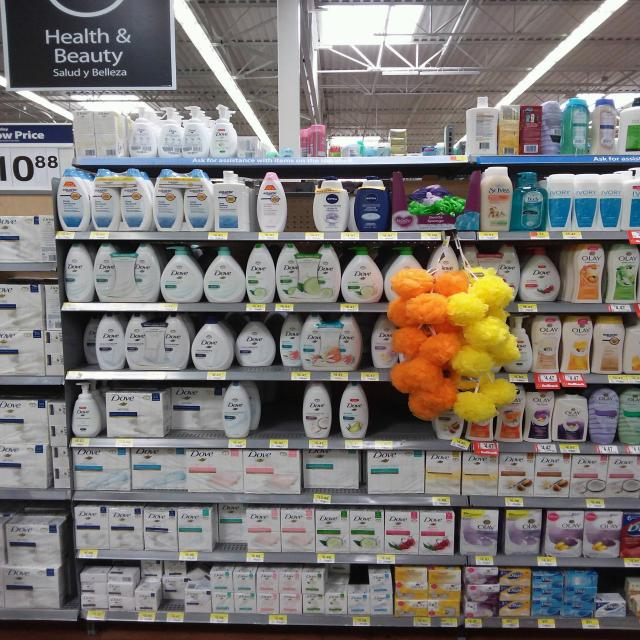unorganised: (231, 311, 278, 372), (301, 449, 367, 491), (170, 387, 223, 437), (462, 92, 499, 156), (564, 92, 590, 155), (590, 94, 616, 155), (498, 95, 522, 157), (216, 505, 246, 551), (541, 96, 563, 156), (521, 99, 542, 158), (79, 313, 97, 368), (140, 558, 185, 577), (161, 576, 186, 608), (328, 564, 351, 583)
